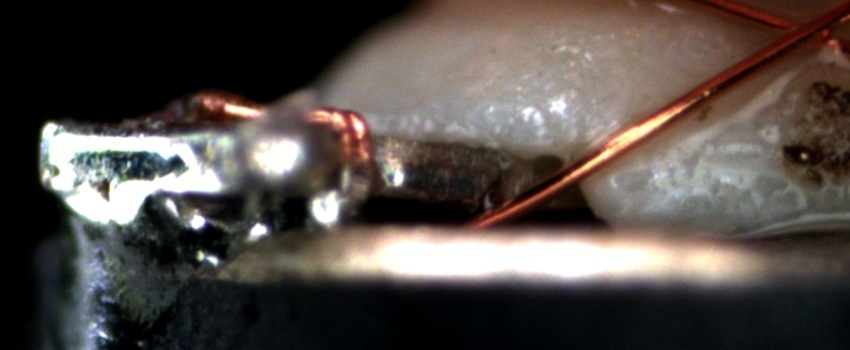CL: (757, 3, 846, 60)
TE: (183, 92, 378, 169)
